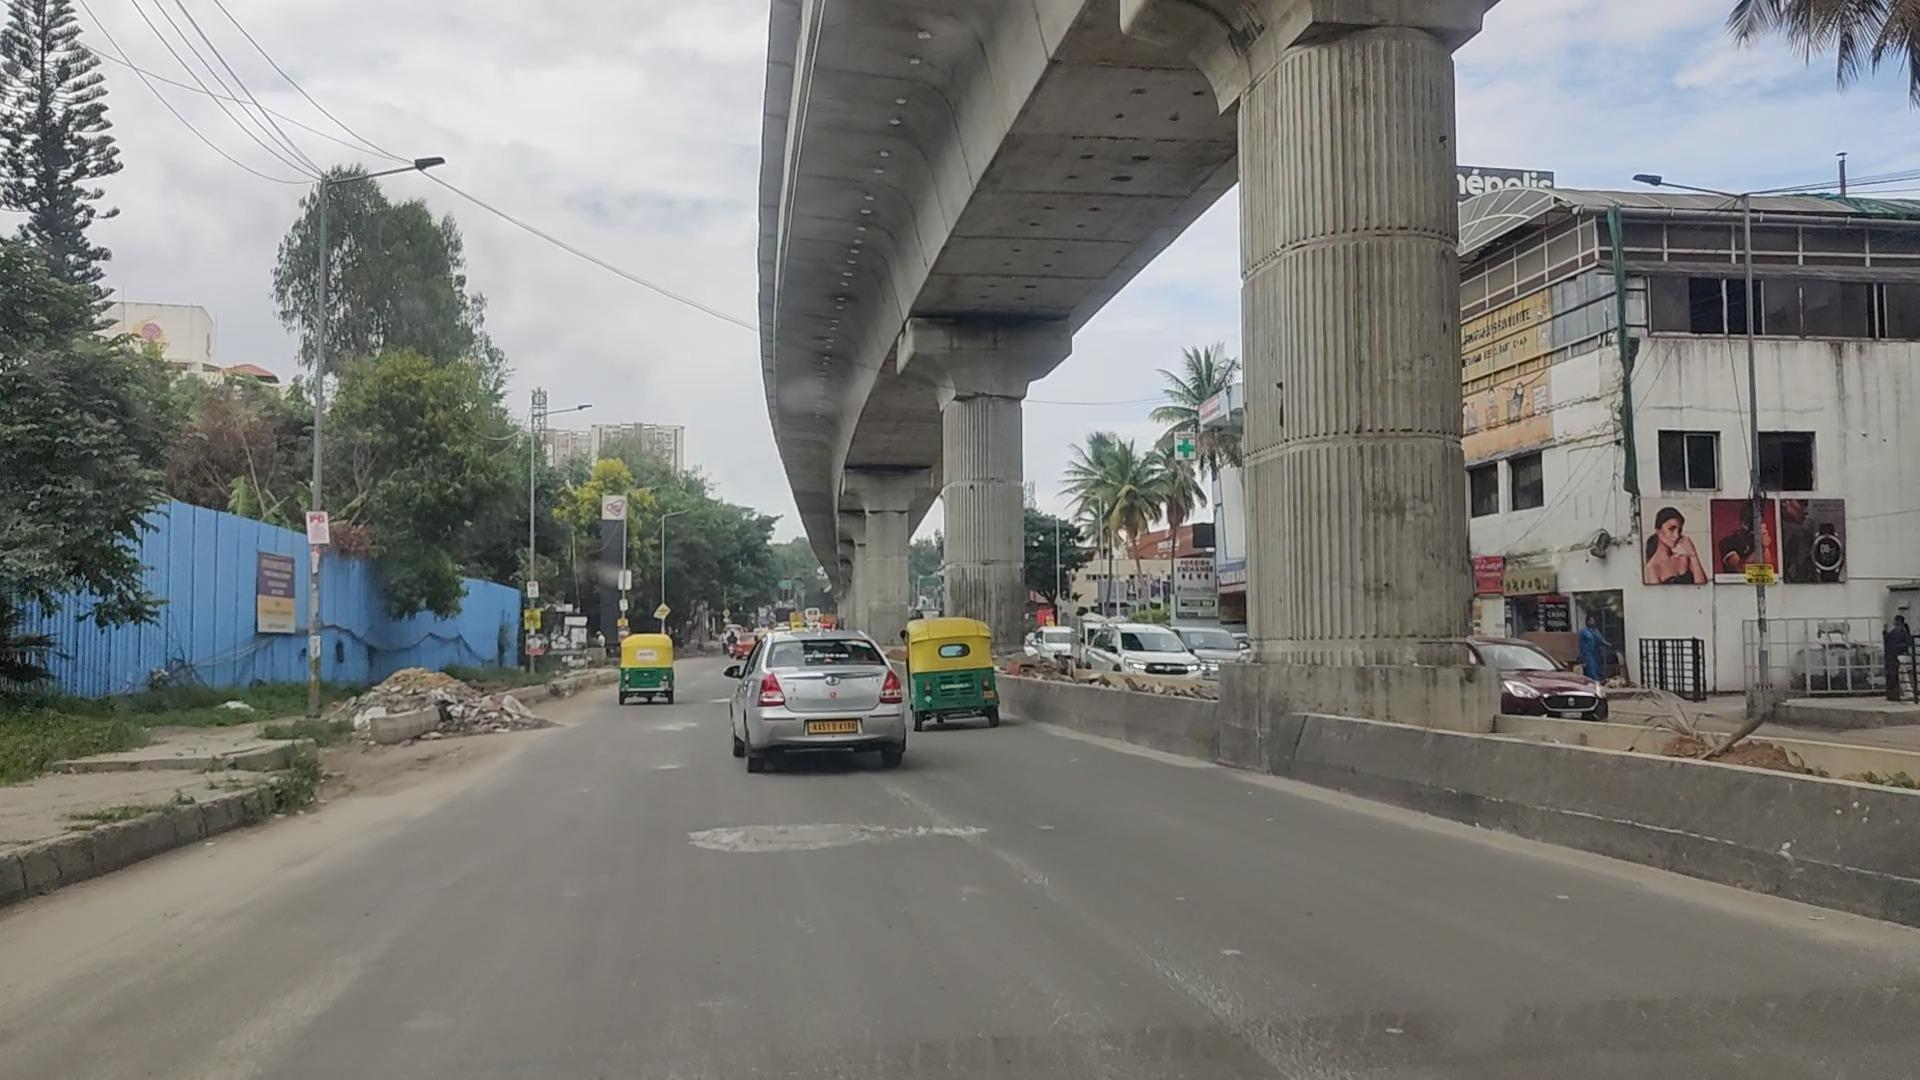LMV: (727, 629, 906, 775), (905, 618, 1000, 729), (617, 632, 682, 700)
RoadDamages: (1189, 947, 1402, 1079), (683, 807, 975, 856)
